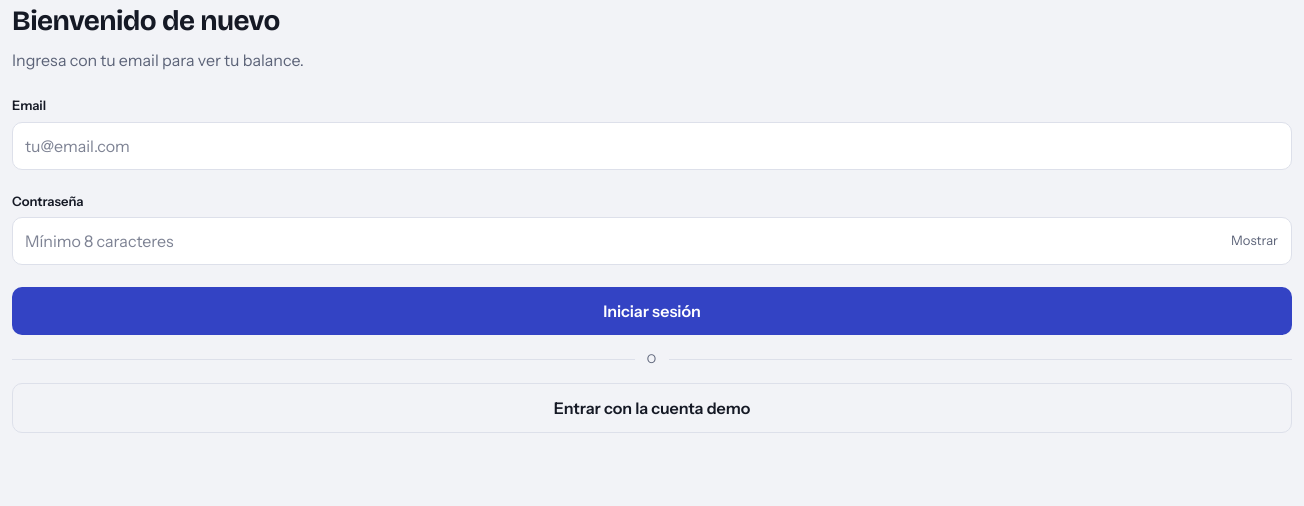
Test case: LoginComponent › 401 muestra mensaje genérico
This screenshot has width=1304, height=506.
Type "ana@email.com" into the field with id "email" at (652, 146), box [12,122,1292,170]
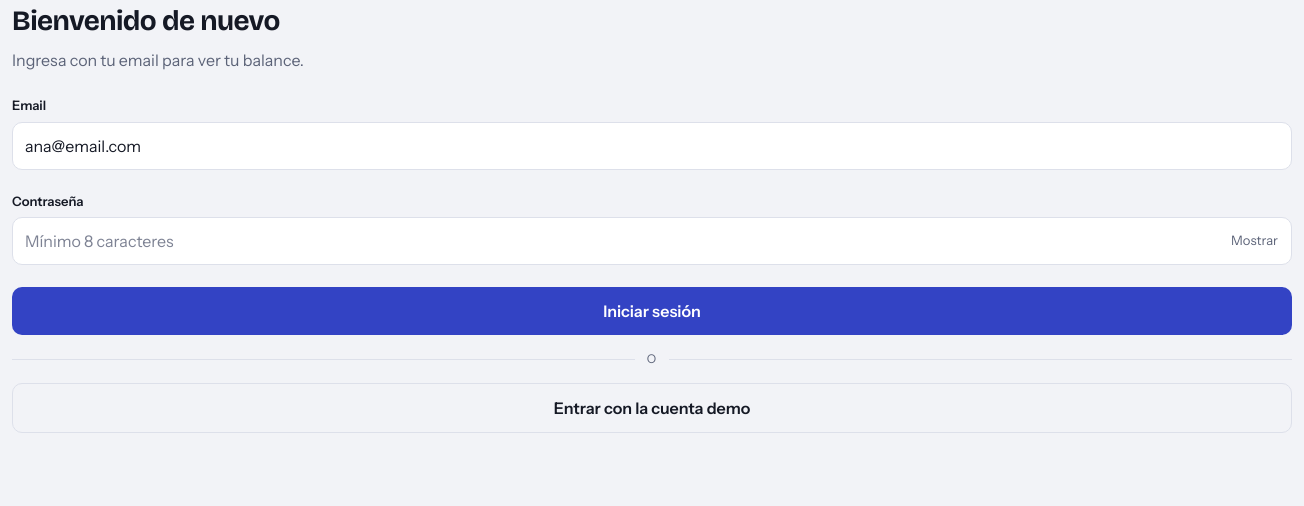
Type "12345678" into the password field labelled "Contraseña" at (652, 241), box [12,217,1292,265]
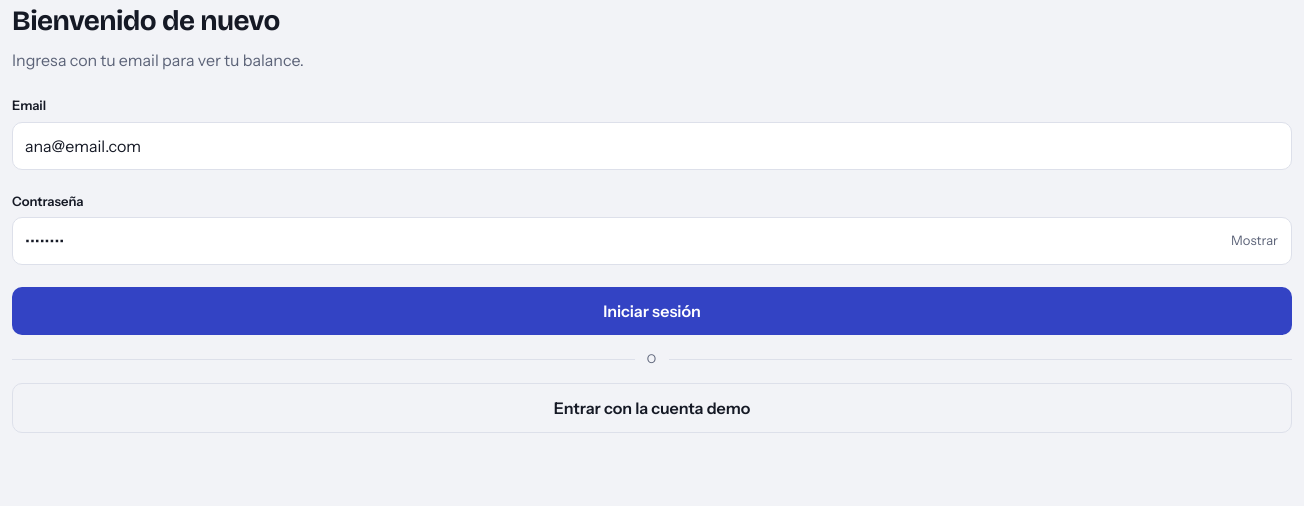
Submit the form
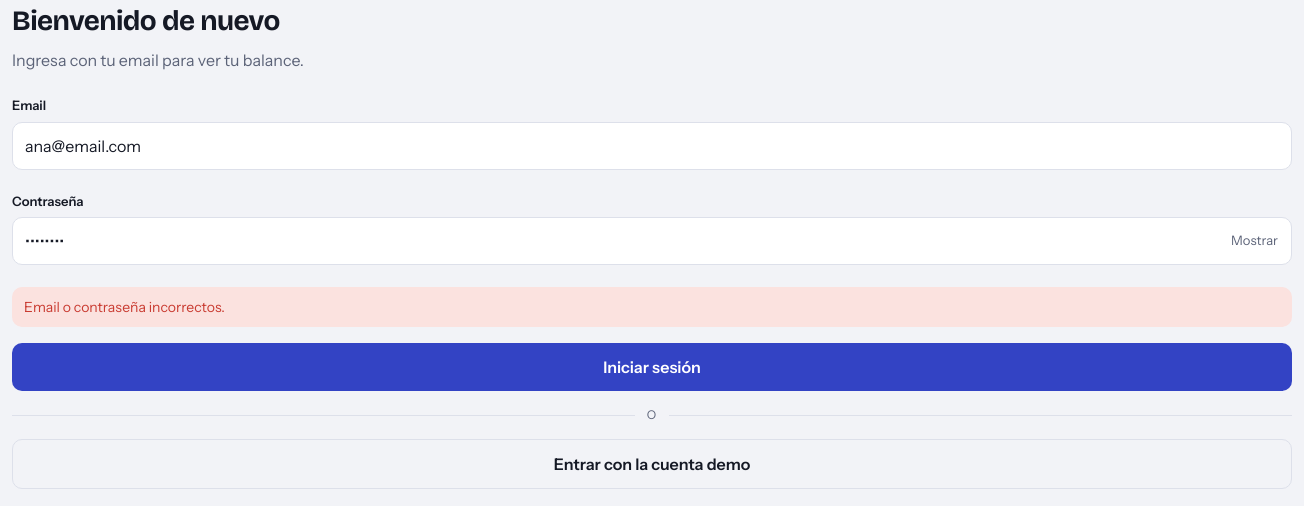
Expected: the button with id "auth-submit" is enabled, [12,343,1292,391]
Now the message "Email o contraseña incorrectos." is shown, box [12,287,1292,327]
